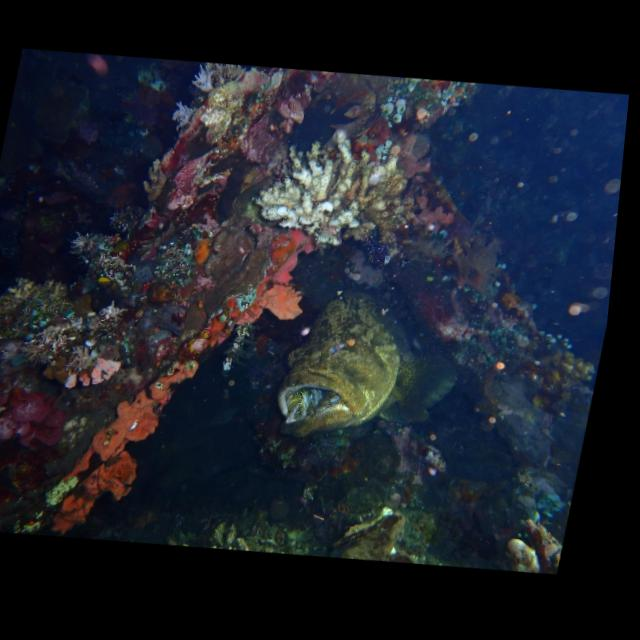Groupers: (252, 270, 480, 452)
